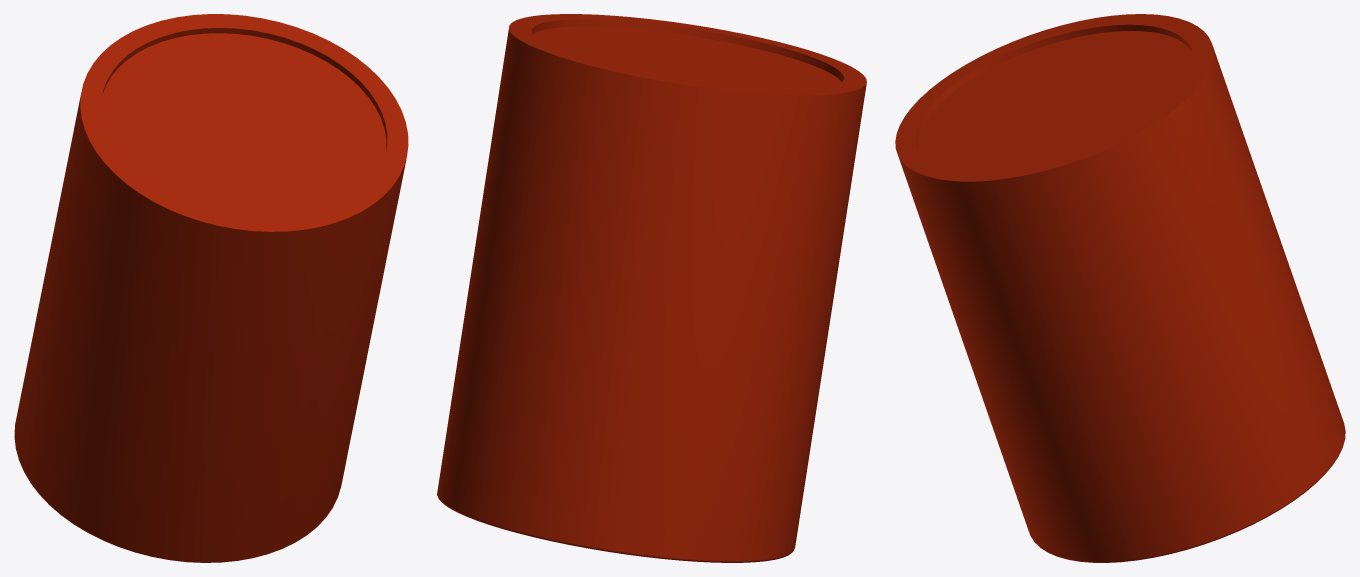
3 views of the same model, side by side, from view 1: azimuth 30°, elevation 25°; view 2: azimuth 150°, elevation 25°; view 3: azimuth 270°, elevation 25° (orthographic). The views are drawn at different scales.
Visible parts, largest first — view 1: body; view 2: body; view 3: body.
Part boxes in pixels (<box>): body: <box>14,14,408,562</box>; body: <box>437,14,866,562</box>; body: <box>895,14,1345,562</box>.
Size of the model in its own units: 0.0705 by 0.1102 by 0.0952.
